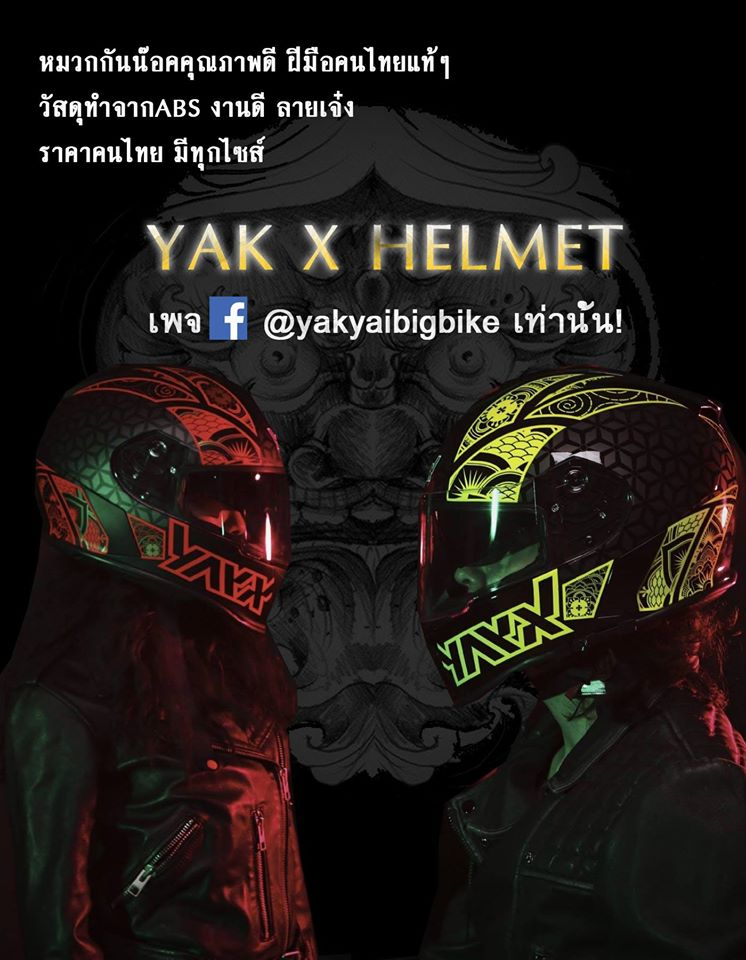helmet: (417, 369, 740, 710), (32, 364, 292, 633)
